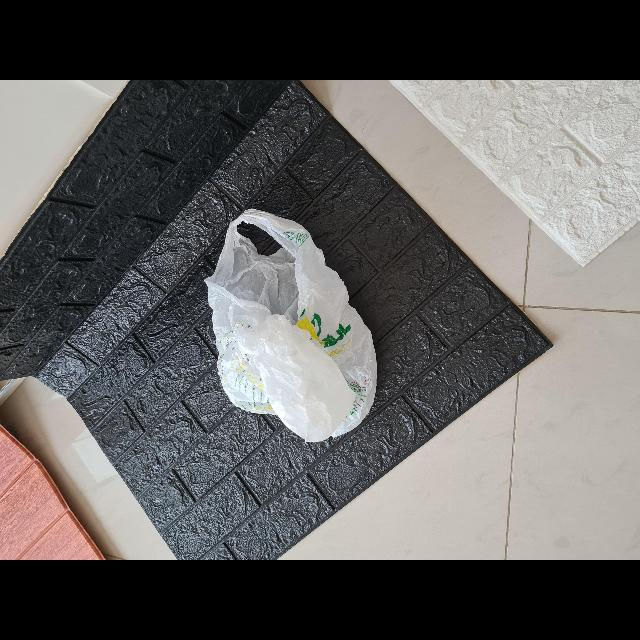sacola plástica: (205, 208, 378, 444)
